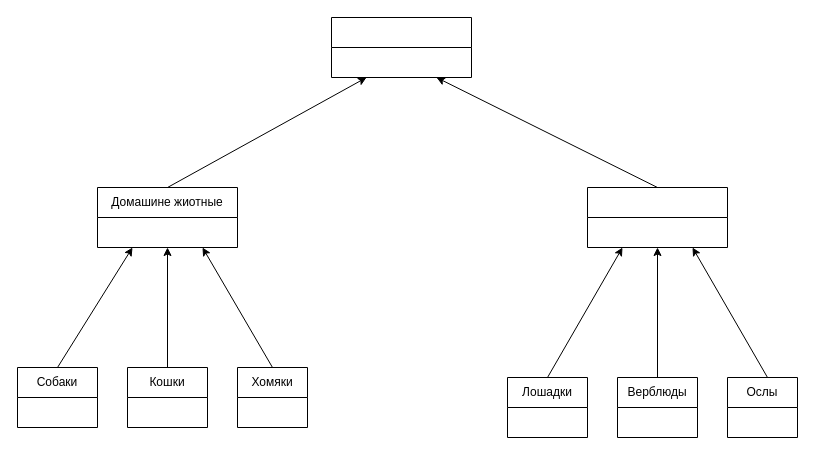
The diagram is 815 pixels wide and 455 high, and some of its shapes have lost their labels. The shapes that lost their labels are listed below. From the top down, each one's centre as x and y in pixels, then its label:
At pixel 401 47: "Родительский класс".
At pixel 657 217: "Вьючные живаотные".
